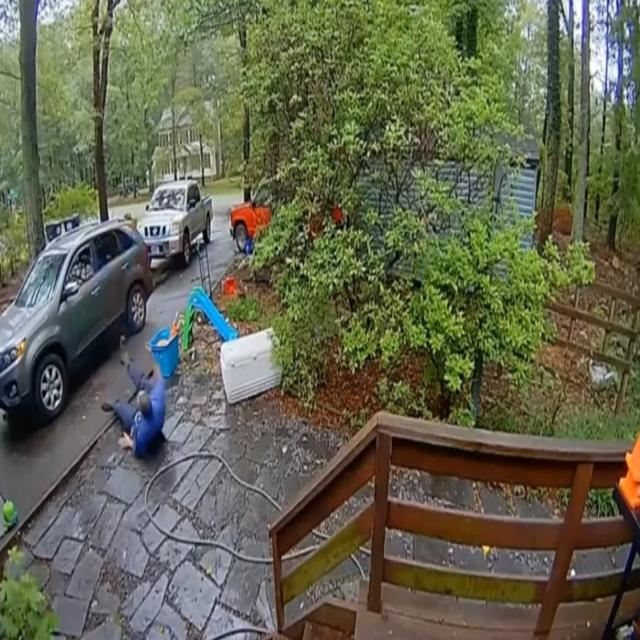fallen: (102, 336, 165, 458)
